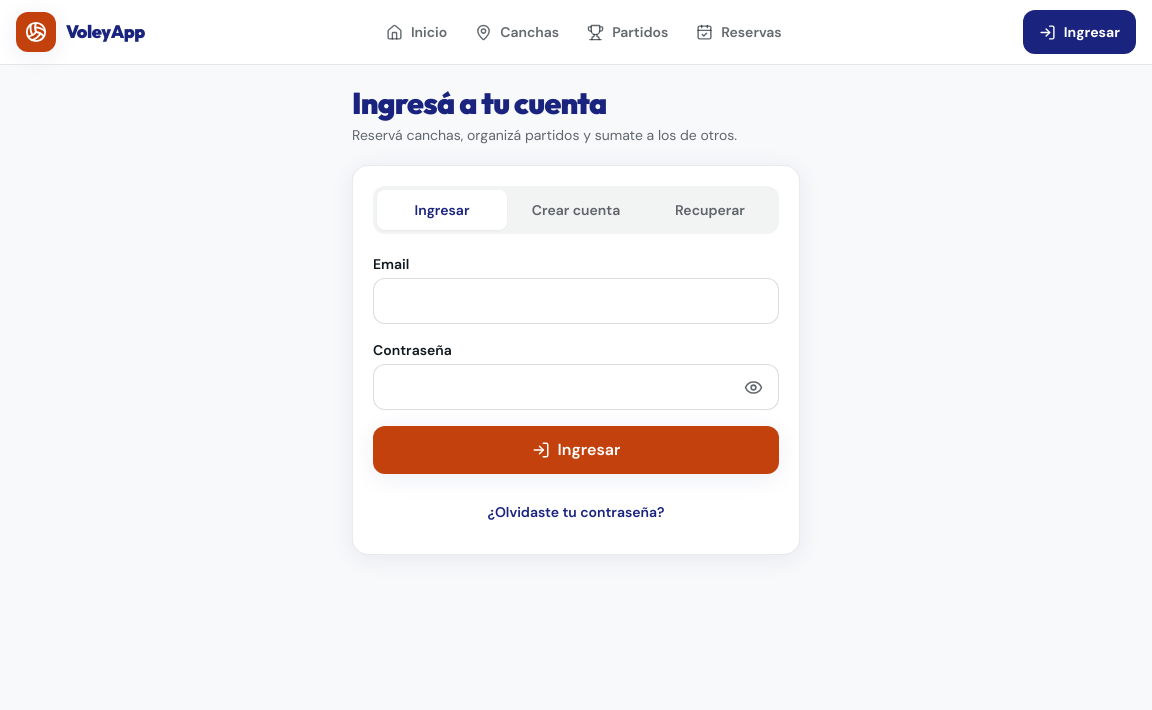
it: pantalla de ingreso › cambiar de pestaña no envía ningún formulario y conserva el email
This screenshot has width=1152, height=710.
Type "ana@mail.com" into the field labelled "Email" at coordinates (576, 301), box x1=373 y1=278 x2=779 y2=324
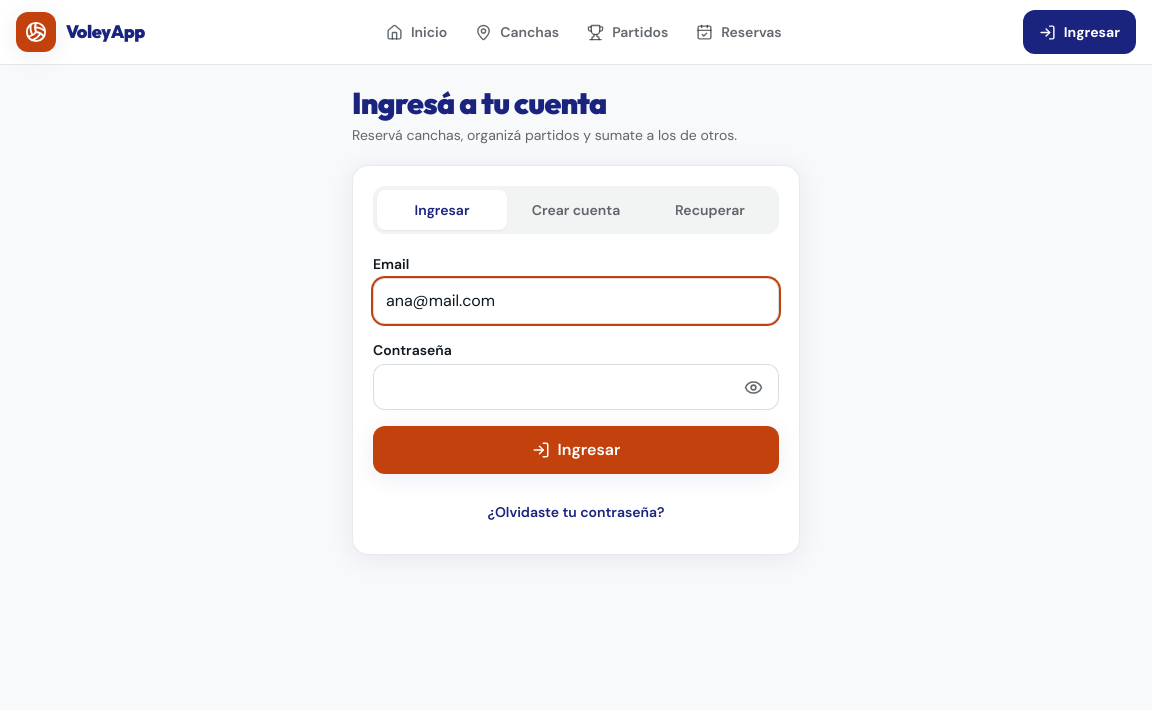
Type "secreta123" into the password field labelled "Contraseña" at coordinates (576, 387), box x1=373 y1=364 x2=779 y2=410
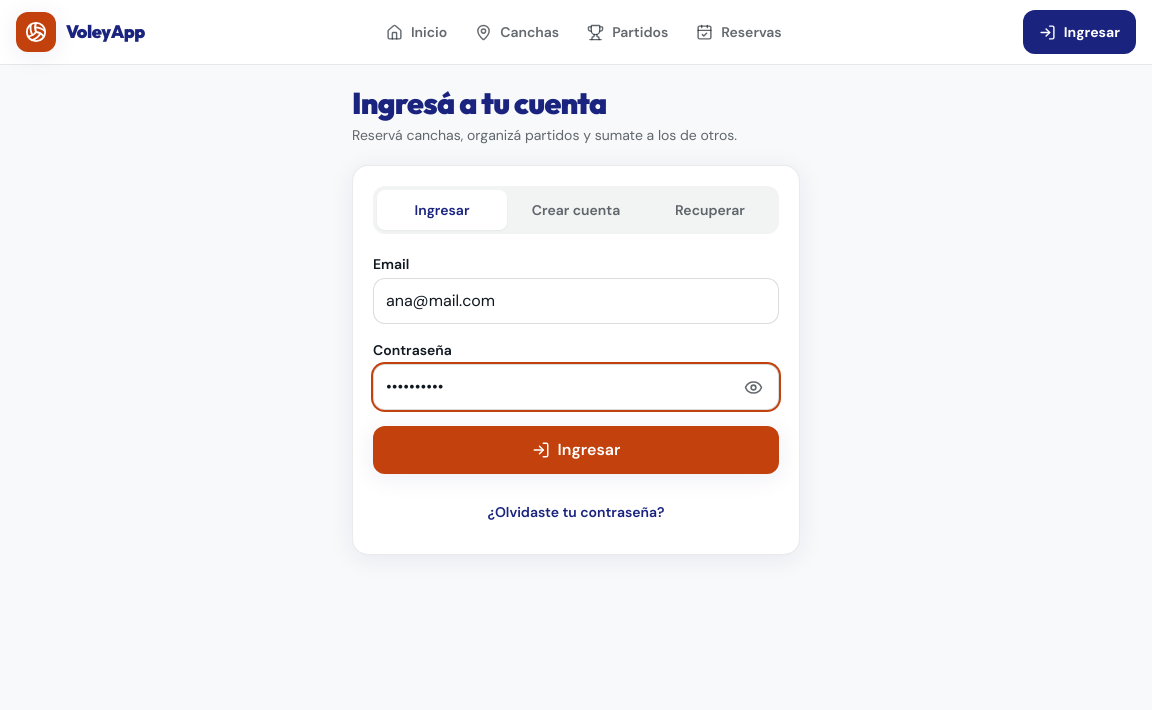
Click the tab "Crear cuenta" at coordinates (576, 210), box x1=511 y1=190 x2=641 y2=230
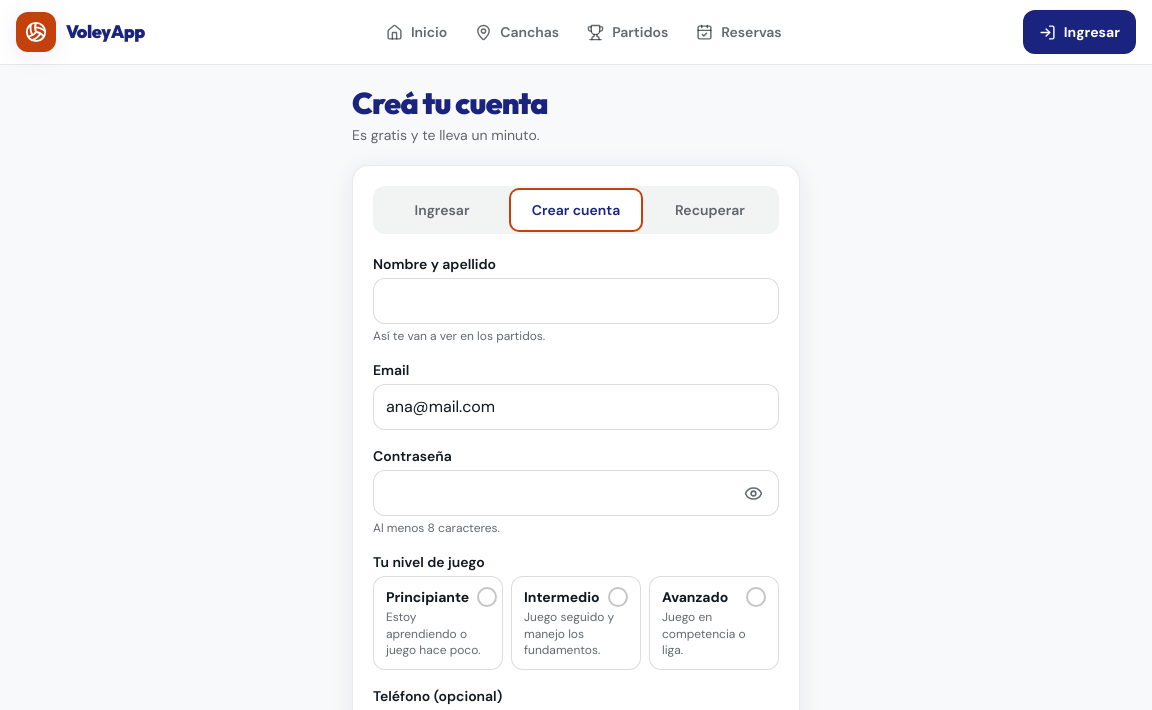
Click the tab "Recuperar" at coordinates (710, 210), box x1=645 y1=190 x2=775 y2=230
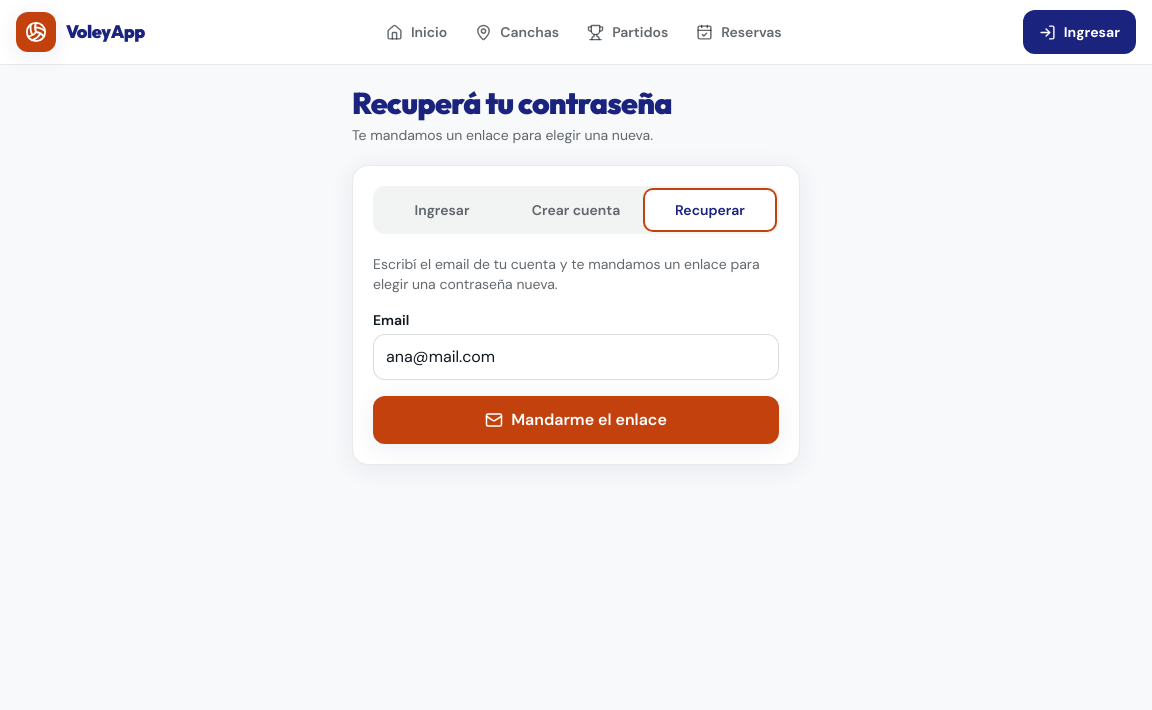
expect the field labelled "Email" holds "ana@mail.com": met, box x1=373 y1=334 x2=779 y2=380
